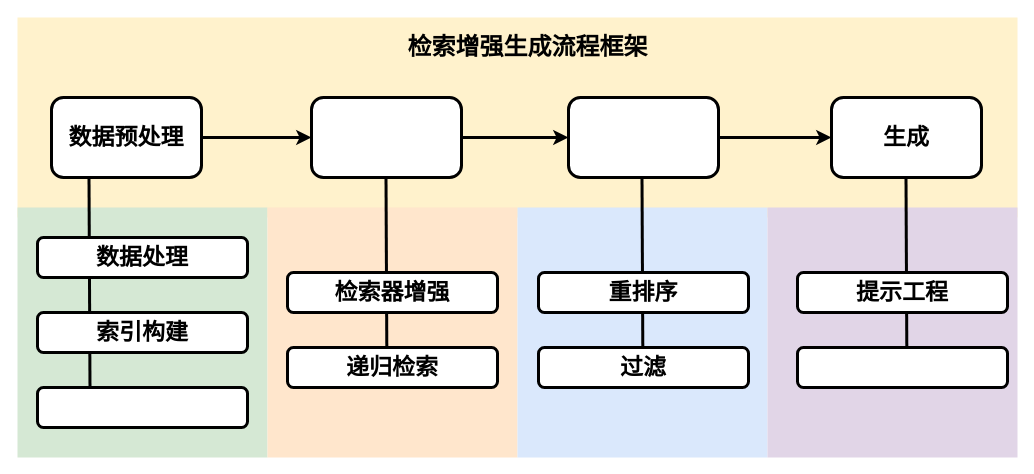
Image size: 1034x474. Some labels were removed from this diagram. The shapes that lost their labels are listed below. From the top down, each one's box as (x1, y1, x2, y2) in pixels, then its label:
(310, 96, 462, 178): 检索
(566, 96, 720, 178): 检索后处理
(796, 346, 1008, 388): 多次生成
(36, 386, 248, 428): 查询处理
